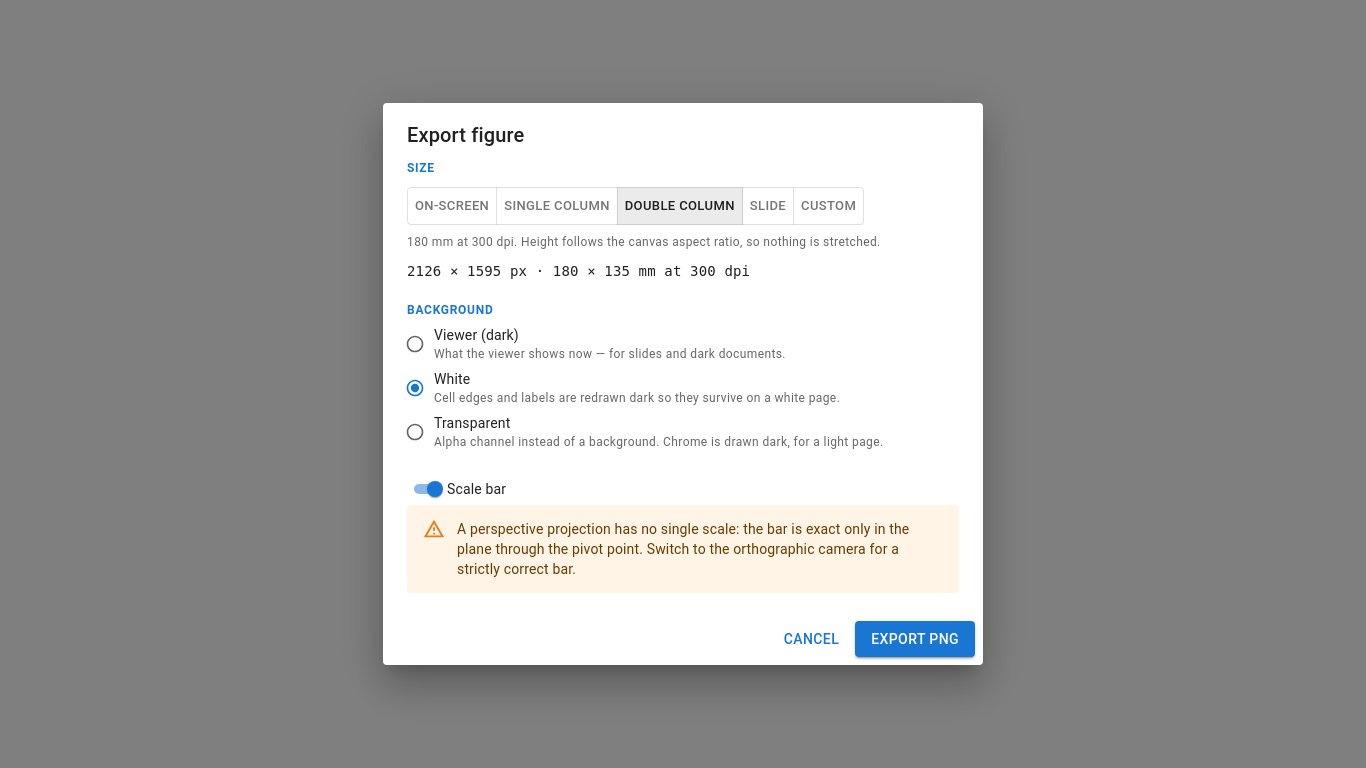
Test: FigureExportDialog › shows the pixel fields only for the custom preset
Click the button "Custom" at coordinates (829, 206), box [793,186,864,225]
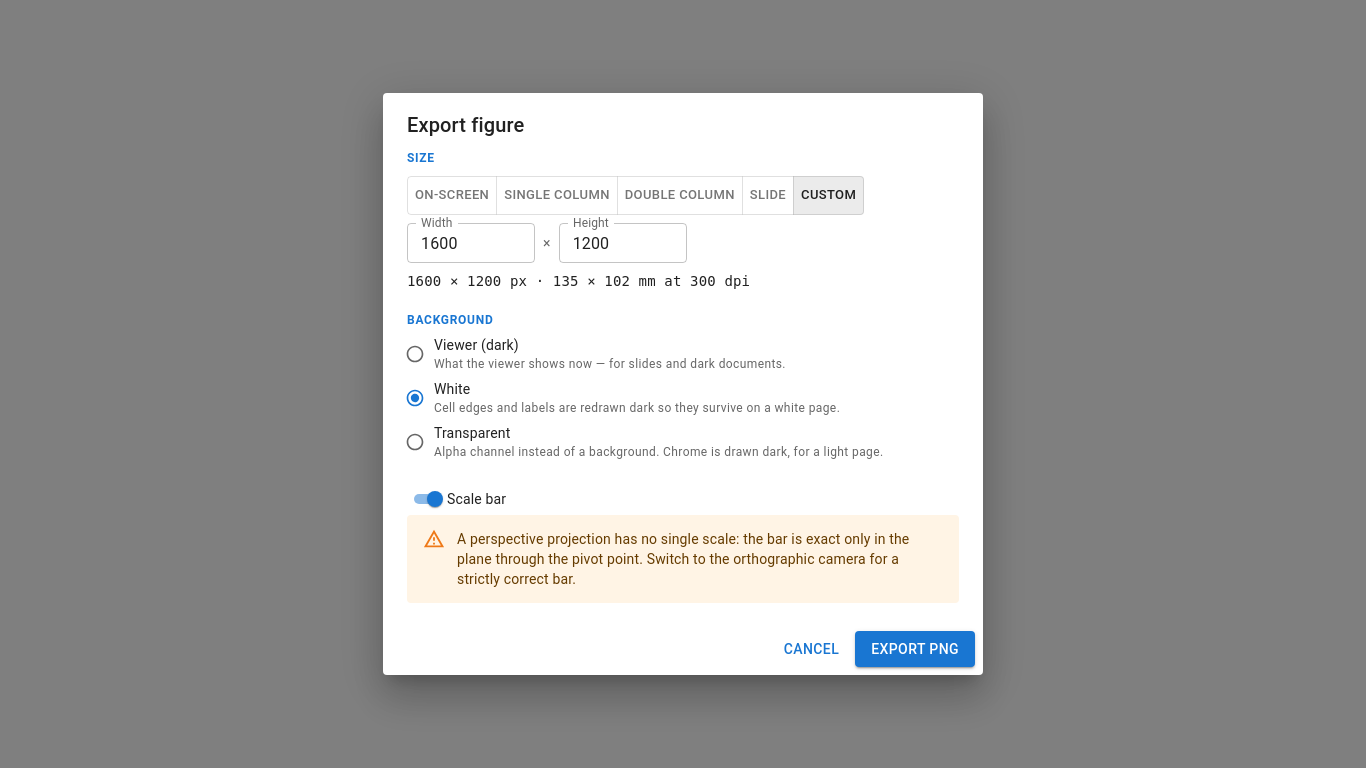
Now the number field labelled "Width" is shown, box [407,223,535,263]
Now the number field labelled "Height" is shown, box [559,223,687,263]
